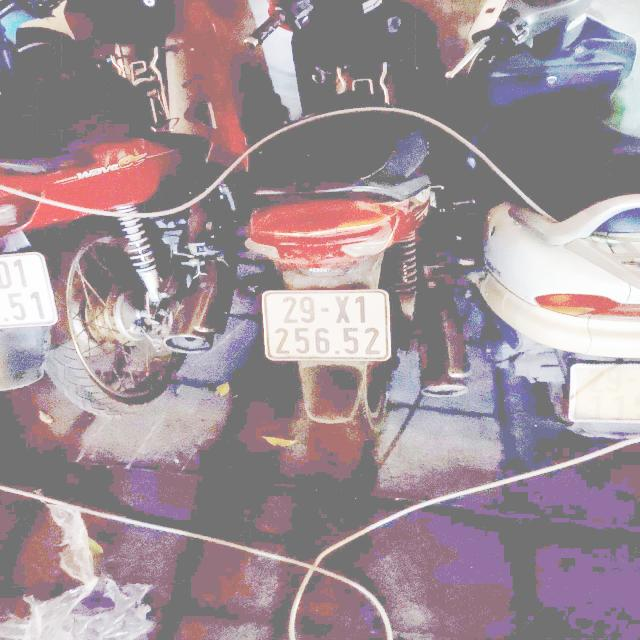license_plate: (265, 286, 394, 363)
